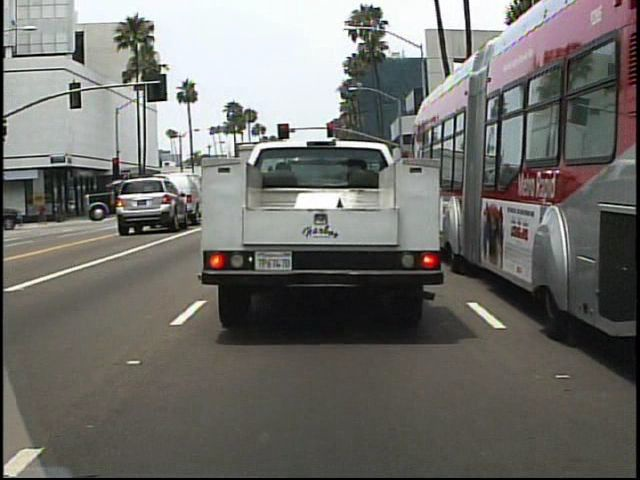person: (37, 195, 51, 224)
